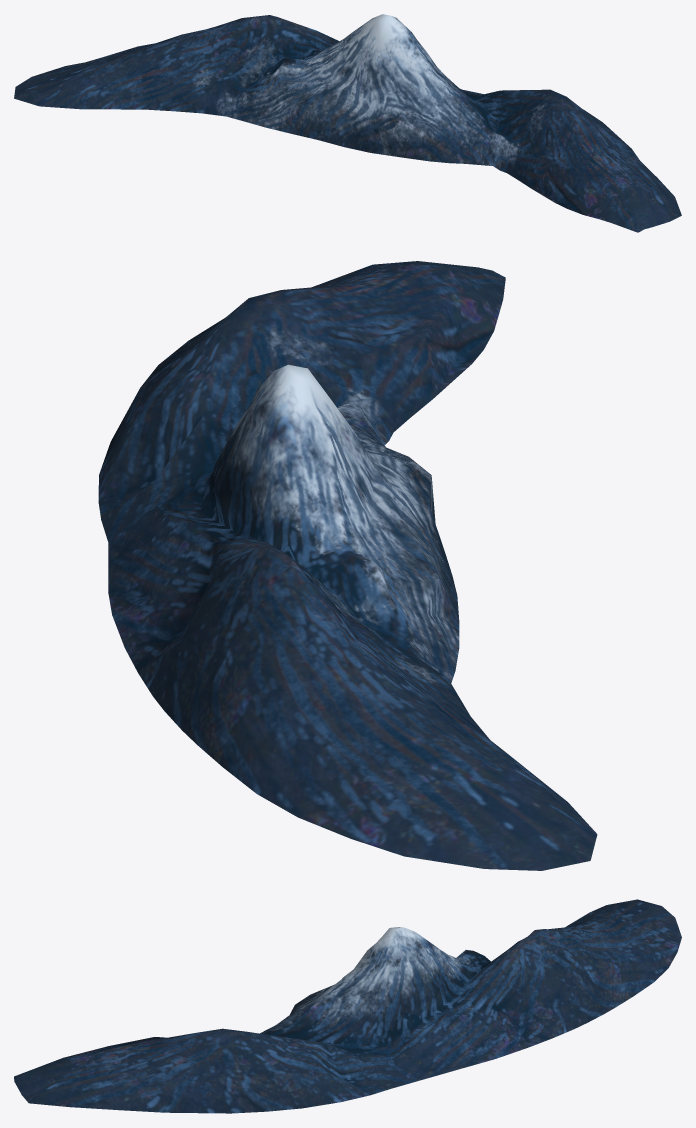
File: Mexico_track_landmark04.dae
3 views of the same model, one above another, from view 1: azimuth 30°, elevation 25°; view 2: azimuth 150°, elevation 25°; view 3: azimuth 270°, elevation 25° (orthographic). The views are drawn at different scales.
Parts seen in each view (by area): view 1: landmark04; view 2: landmark04; view 3: landmark04.
Part boxes in pixels (x1,y1,x2,y2): landmark04: (14, 14, 681, 232); landmark04: (98, 261, 597, 870); landmark04: (14, 899, 681, 1113).
Size of the model in its own units: 203 by 268 by 49.44.
1 material, 1 textured.
